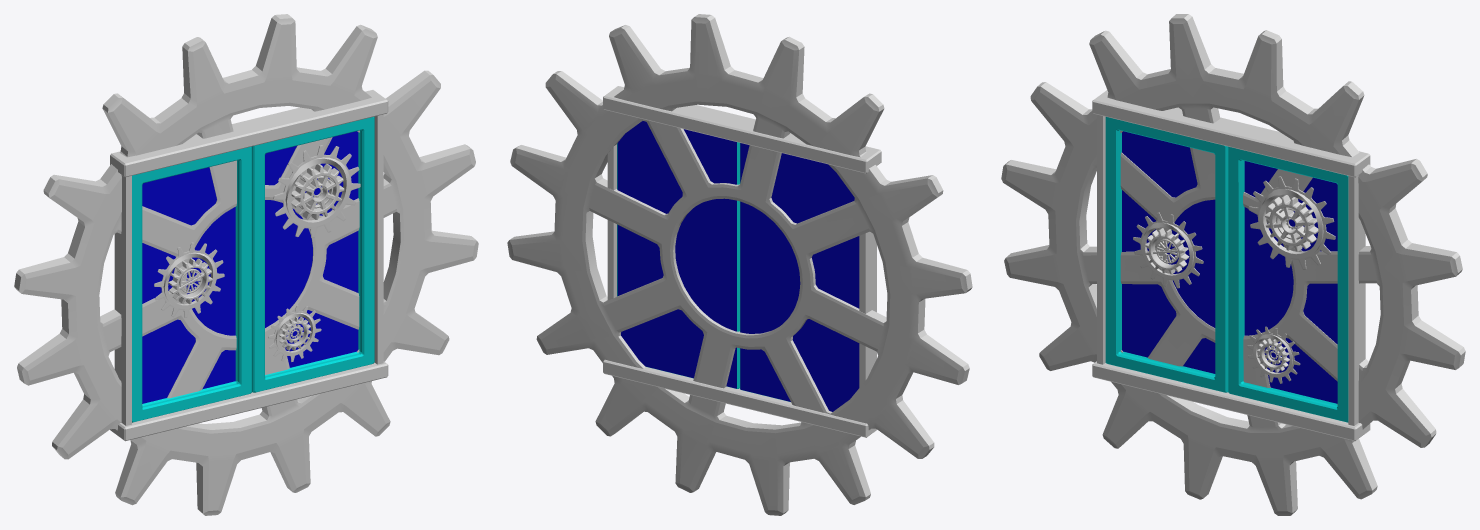
File: door.fbx
The picture shows the model from 3 angles, left to right: view 1: azimuth 30°, elevation 25°; view 2: azimuth 150°, elevation 25°; view 3: azimuth 330°, elevation 25°; orthographic projection.
Parts seen in each view (by area): view 1: pCylinder31, door_R, door_L, door, pCylinder21, pCylinder27, mobius_3, pCylinder11, pCylinder28, mobius_5, pCylinder29, pCylinder30; view 2: pCylinder31, door_L, door_R, door; view 3: pCylinder31, door_R, door_L, door, pCylinder21, pCylinder27, mobius_3, pCylinder11, pCylinder28, mobius_5, pCylinder29, pCylinder30.
Part boxes in pixels (x1=…): pCylinder31: x1=14, y1=14, x2=478, y2=515; door_R: x1=132, y1=146, x2=251, y2=422; door_L: x1=252, y1=116, x2=374, y2=392; door: x1=110, y1=90, x2=388, y2=441; pCylinder21: x1=291, y1=164, x2=344, y2=219; pCylinder27: x1=273, y1=145, x2=360, y2=238; mobius_3: x1=285, y1=157, x2=350, y2=227; pCylinder11: x1=168, y1=258, x2=212, y2=304; pCylinder28: x1=154, y1=242, x2=224, y2=317; mobius_5: x1=163, y1=252, x2=216, y2=308; pCylinder29: x1=268, y1=305, x2=321, y2=361; pCylinder30: x1=279, y1=317, x2=311, y2=350; pCylinder31: x1=507, y1=14, x2=972, y2=515; door_L: x1=617, y1=121, x2=739, y2=388; door_R: x1=740, y1=143, x2=859, y2=411; door: x1=603, y1=86, x2=881, y2=437; pCylinder31: x1=1001, y1=14, x2=1465, y2=515; door_R: x1=1105, y1=117, x2=1228, y2=392; door_L: x1=1228, y1=146, x2=1348, y2=422; door: x1=1092, y1=90, x2=1370, y2=440; pCylinder21: x1=1265, y1=195, x2=1318, y2=251; pCylinder27: x1=1248, y1=176, x2=1335, y2=269; mobius_3: x1=1259, y1=189, x2=1323, y2=258; pCylinder11: x1=1145, y1=228, x2=1189, y2=274; pCylinder28: x1=1133, y1=212, x2=1203, y2=288; mobius_5: x1=1141, y1=222, x2=1193, y2=279; pCylinder29: x1=1247, y1=326, x2=1300, y2=383; pCylinder30: x1=1257, y1=338, x2=1289, y2=372.
Bounding box in the file's own units: 173 × 174 × 10.
